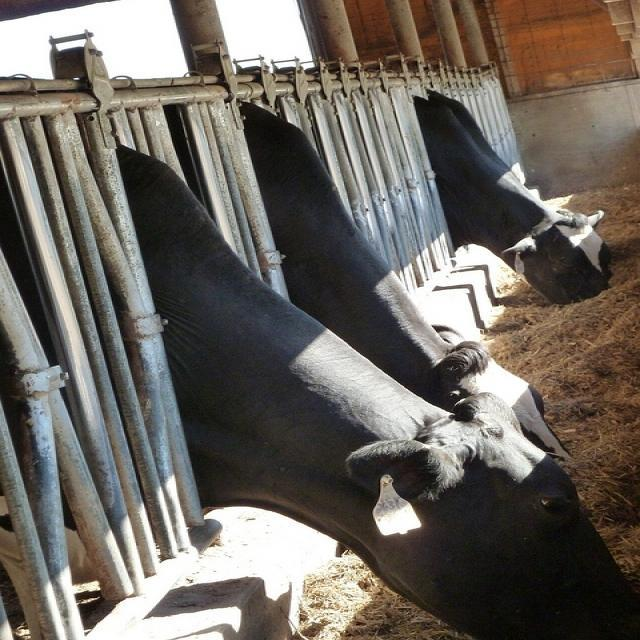cow: (116, 138, 631, 628), (236, 90, 567, 459), (413, 86, 615, 306)
